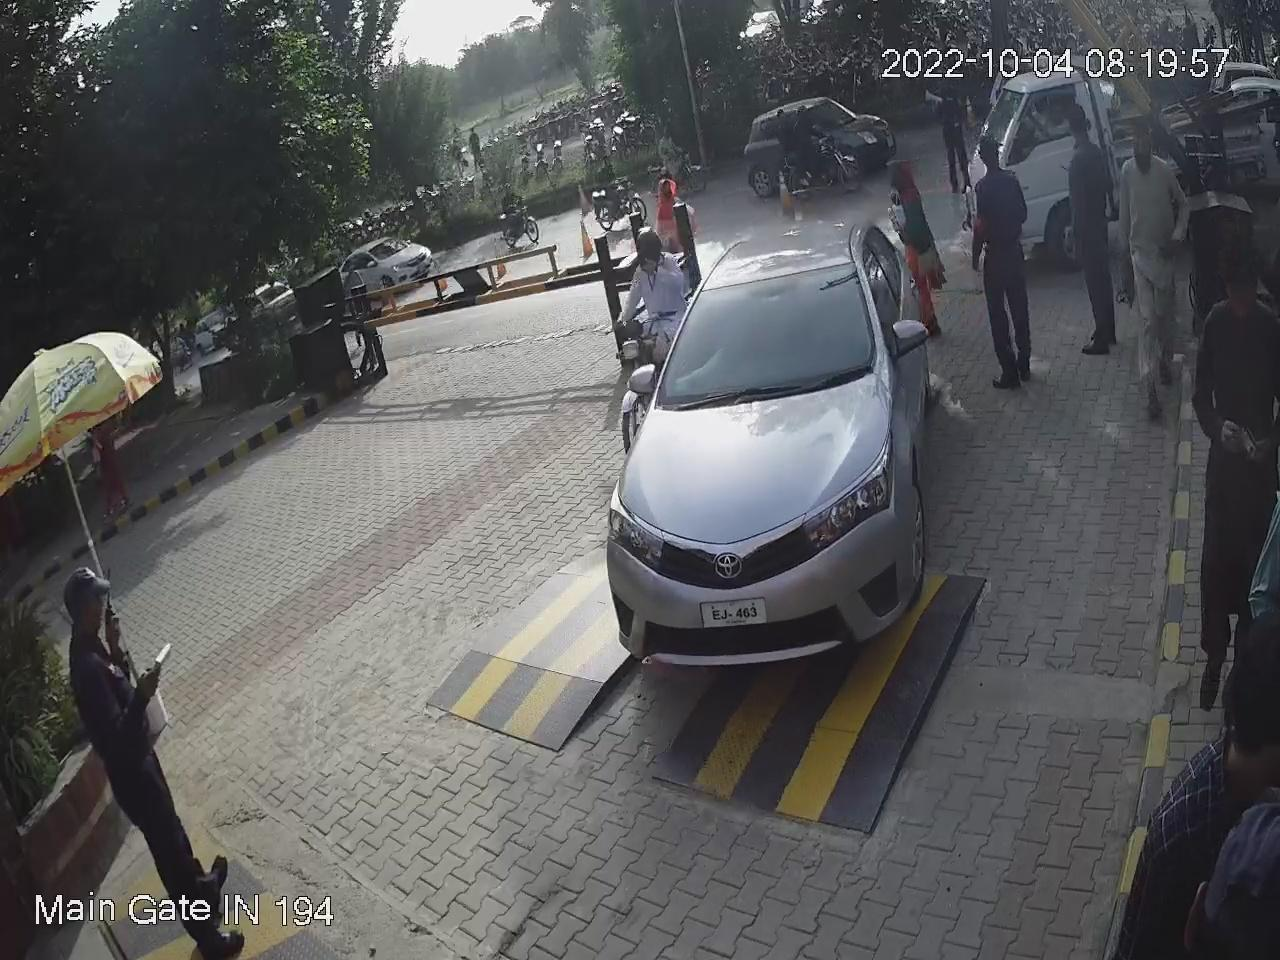windshield: (640, 255, 885, 415)
